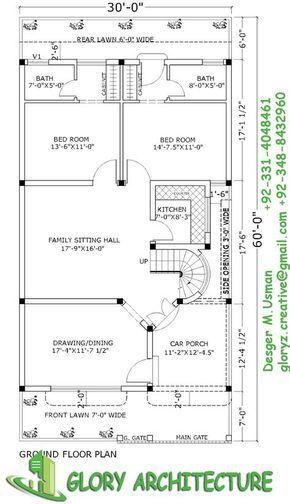Blueprint: (16, 55, 237, 394)
wall: (18, 64, 27, 182), (225, 63, 233, 181), (18, 184, 26, 299), (23, 297, 118, 306), (118, 62, 125, 182), (18, 302, 27, 388), (23, 178, 95, 187), (148, 178, 212, 188), (163, 95, 233, 104), (154, 242, 207, 251), (147, 178, 157, 222), (162, 58, 205, 68), (18, 98, 83, 104), (24, 384, 53, 394), (145, 331, 155, 360), (47, 57, 79, 66), (119, 384, 150, 393), (203, 178, 212, 198), (72, 56, 79, 81), (123, 57, 142, 66), (104, 57, 121, 67), (203, 231, 212, 245)
